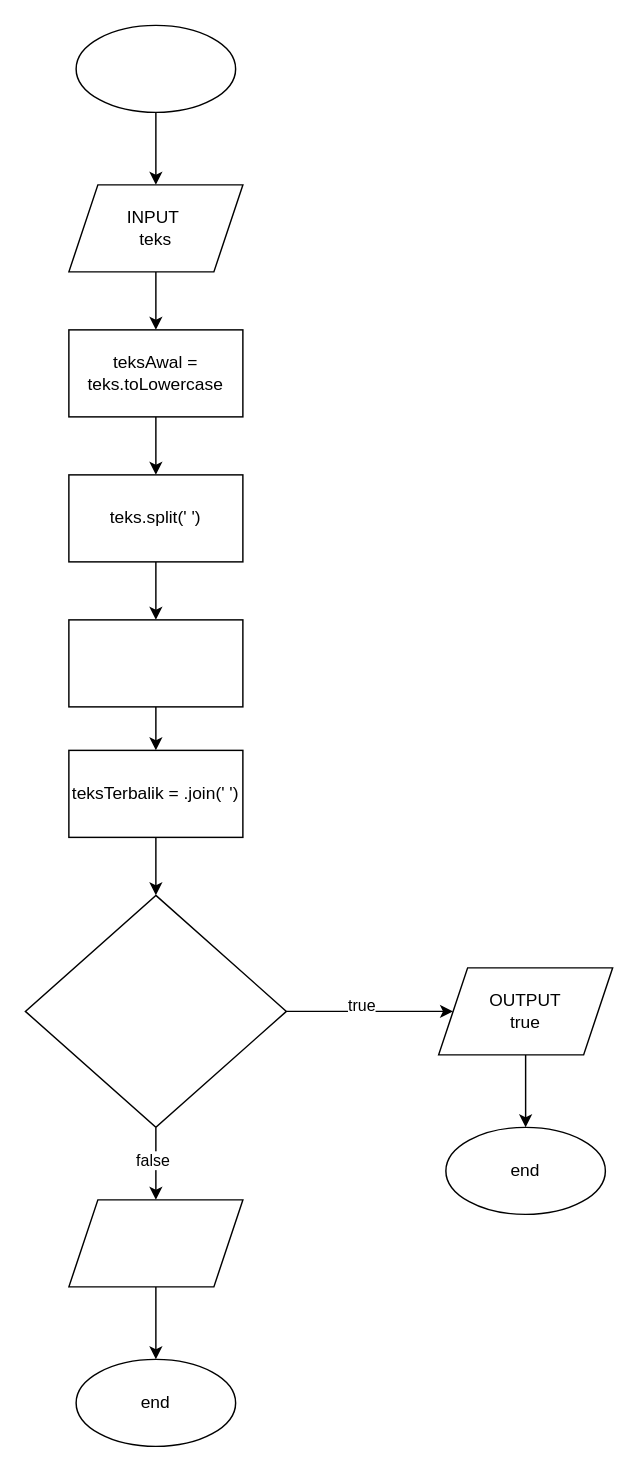
This 638x1472 diagram has some shape labels left out. Here are the shapes that lost their labels. From the top down, the box of each, then its label:
(75, 24, 236, 112): start
(67, 618, 243, 707): teks.reverse( )
(24, 894, 286, 1127): teksAwal === teksTerbalik ?
(67, 1198, 243, 1287): OUTPUT false
